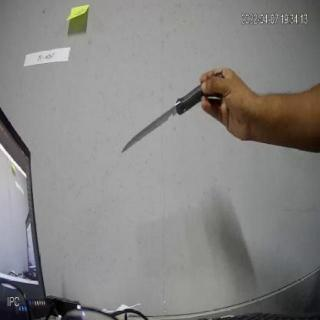knife: (120, 79, 233, 159)
